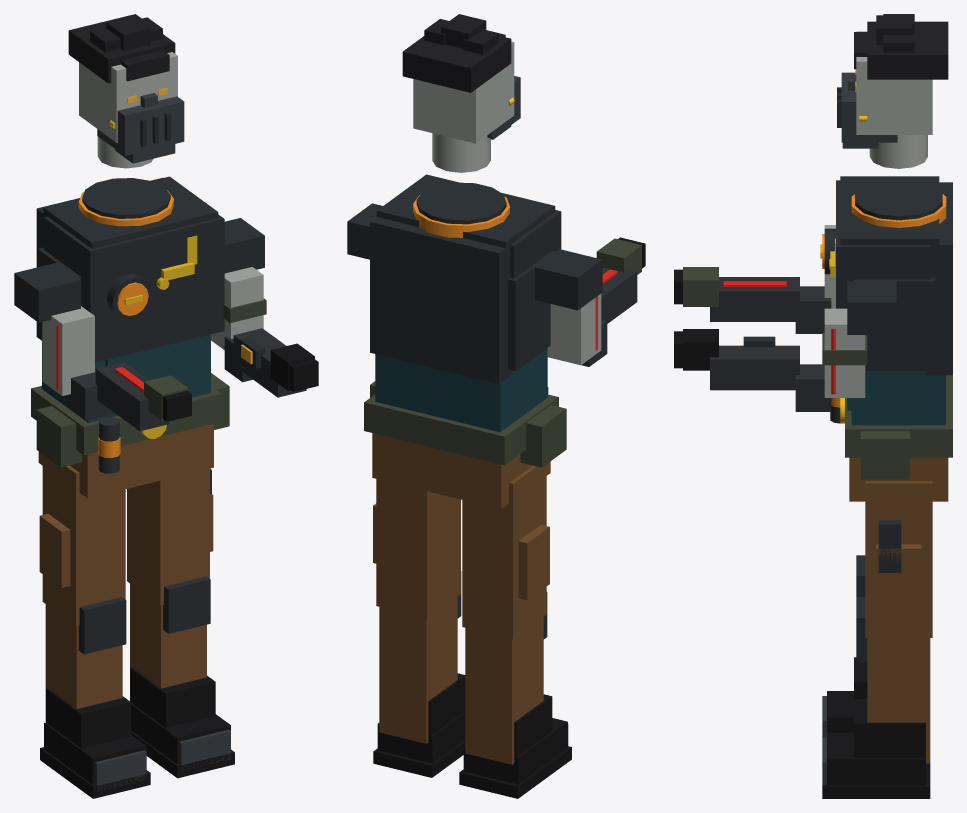
The model's file is mercenary_full.obj.
3 renders of one model, left to right at view 1: azimuth 30°, elevation 25°; view 2: azimuth 150°, elevation 25°; view 3: azimuth 270°, elevation 25°, orthographic.
Size of the model in its own units: 0.59 by 1.82 by 0.62.
